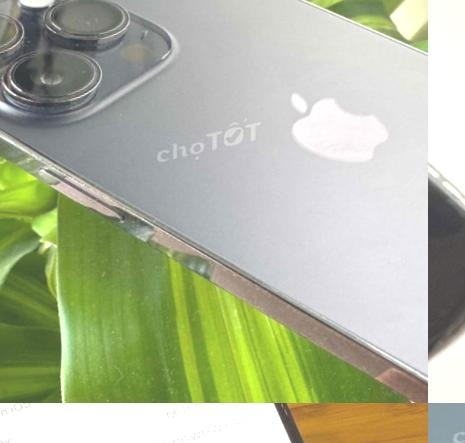scratch: (438, 309, 465, 336), (428, 340, 445, 364)
